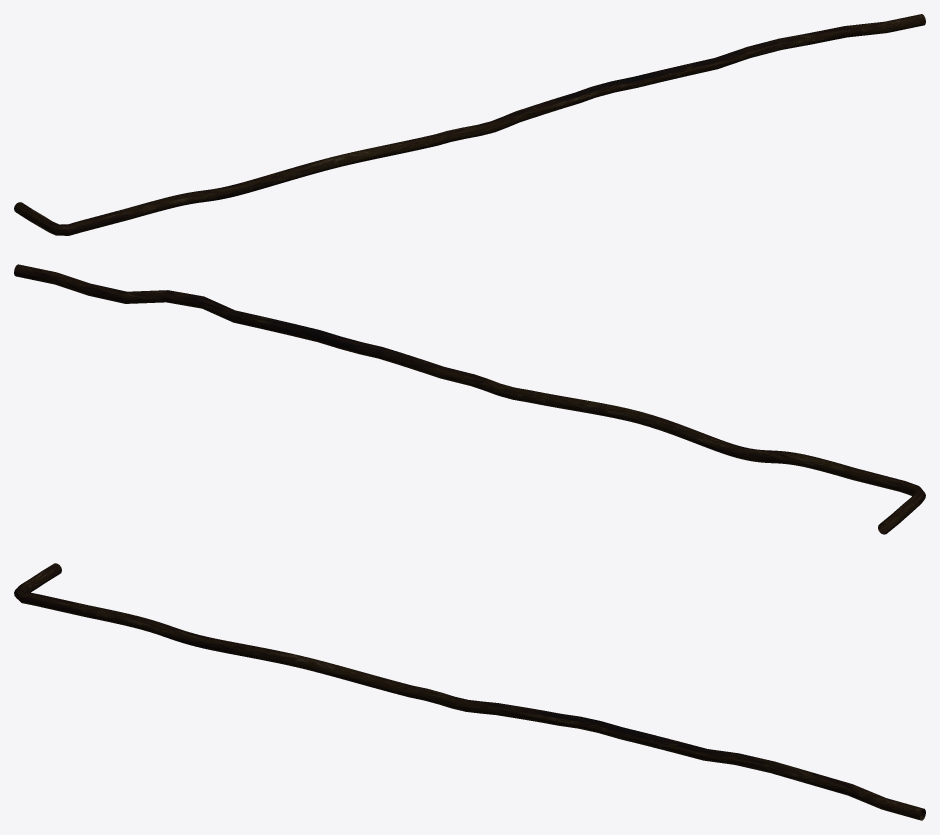
The model's file is CableCorner.fbx.
3 views of the same model, one above another, from view 1: azimuth 30°, elevation 25°; view 2: azimuth 150°, elevation 25°; view 3: azimuth 330°, elevation 25° (orthographic). The views are drawn at different scales.
Visible parts, largest first — view 1: Plane (19); view 2: Plane (19); view 3: Plane (19).
Part boxes in pixels (x1,y1,x2,y2): Plane (19): [14, 14, 925, 235]; Plane (19): [14, 264, 925, 534]; Plane (19): [14, 563, 925, 820].
Bounding box in the file's own units: 682 × 20.91 × 60.51.
